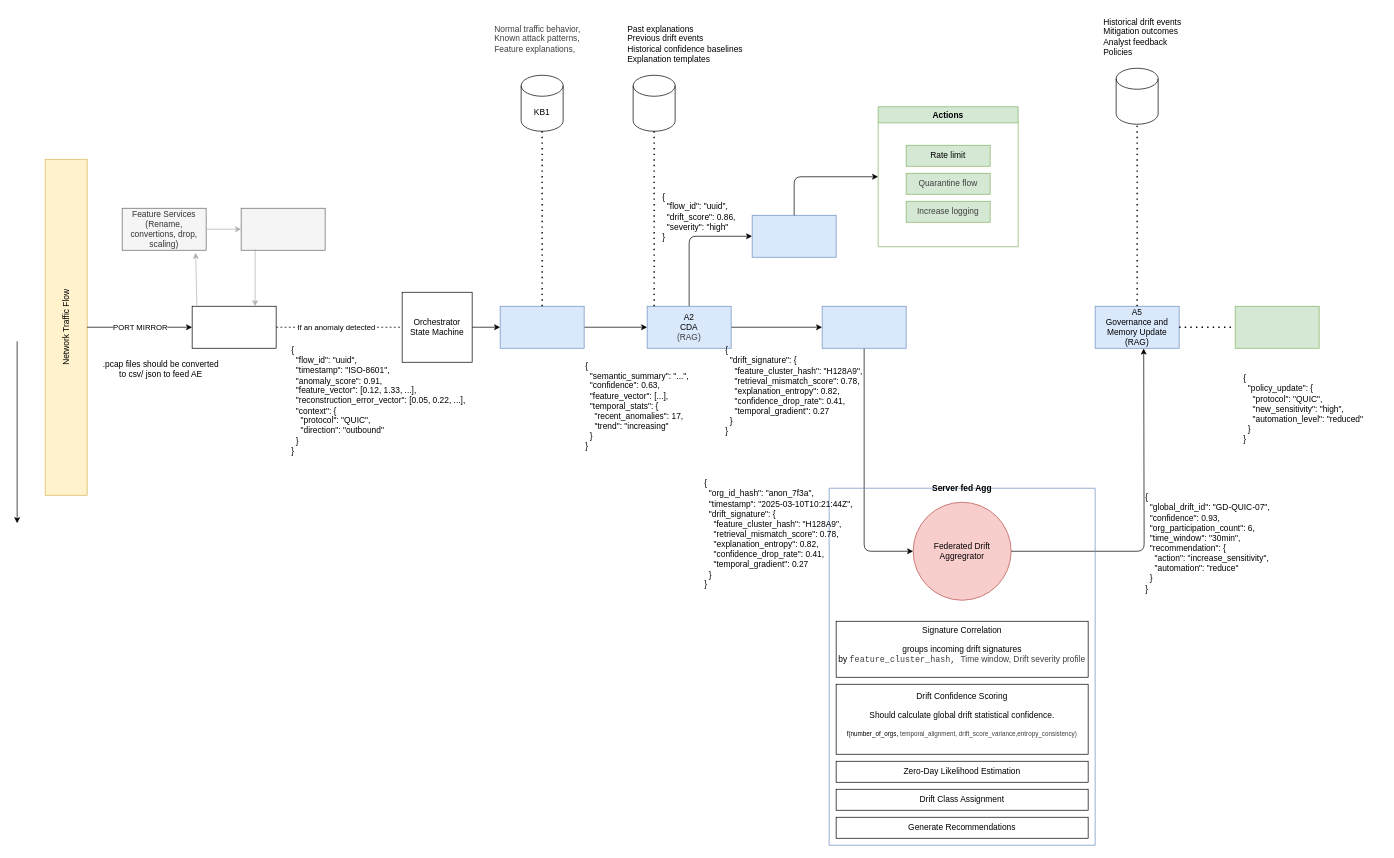
The diagram is 1394 pixels wide and 858 high, and some of its shapes have lost their labels. Here are the shapes that lost their labels. From the top down, the centre of each, then its label:
At point 653,103: "KB2".
At point 1136,96: "KB5".
At point 282,229: "Inference Service (Evaluate traffic to detect anomaly)".
At point 793,236: "A3 Local Mitigation".
At point 233,327: "AutoEncoder Inference Senser".
At point 541,327: "A1 Anomaly Interpretation (RAG)".
At point 863,327: "A4 Federated Drift Exchange".
At point 1276,327: "Policy updates & Knowledge Base updates".
